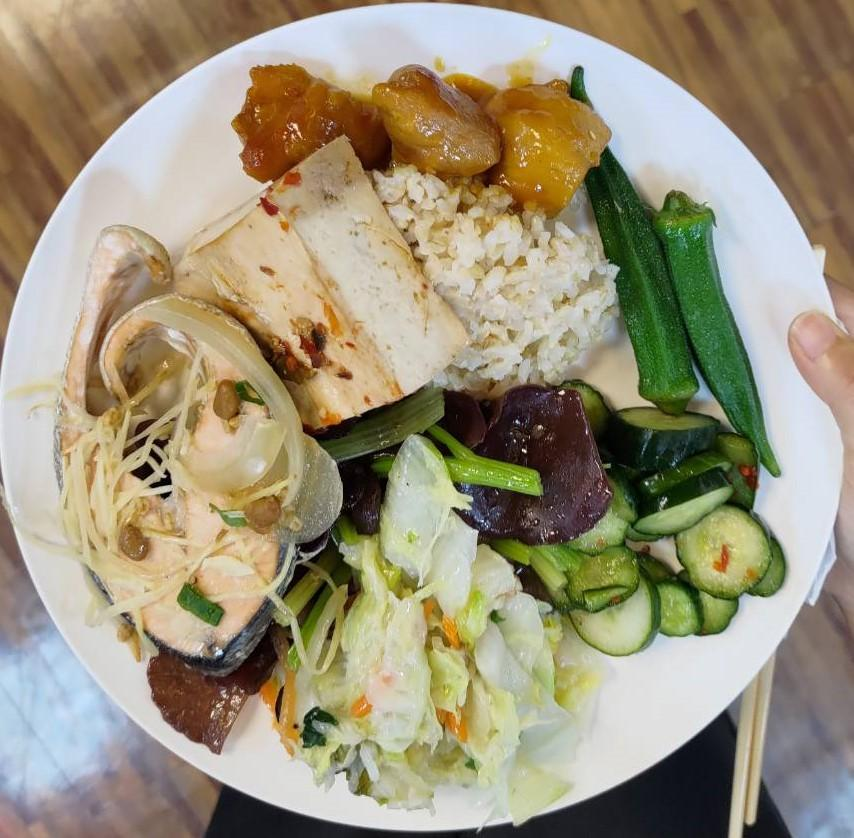big fried chicken leg: (4, 4, 848, 838)
big herbal chicken leg: (378, 164, 624, 388)
braised fish fillet: (290, 388, 592, 794), (182, 132, 479, 423), (229, 60, 618, 215), (557, 408, 789, 657), (596, 162, 779, 426)
brown rice: (42, 222, 317, 674)
